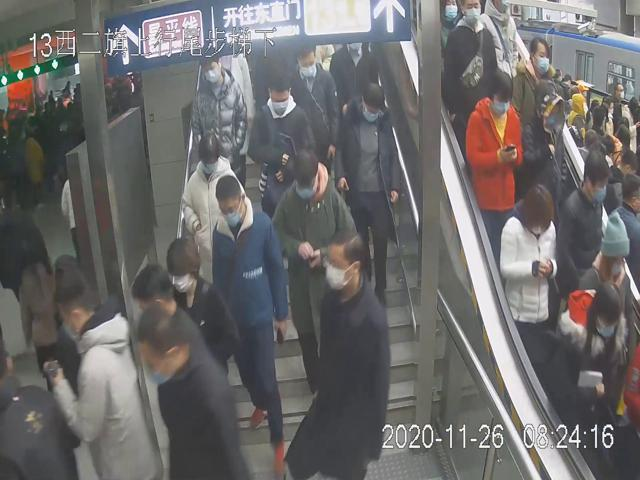person: (286, 229, 390, 476), (208, 171, 291, 472), (269, 144, 356, 396), (332, 78, 401, 308), (179, 131, 250, 285), (498, 181, 561, 349), (464, 70, 524, 237), (251, 65, 314, 221), (190, 54, 248, 183), (441, 3, 496, 127), (289, 42, 337, 149)
